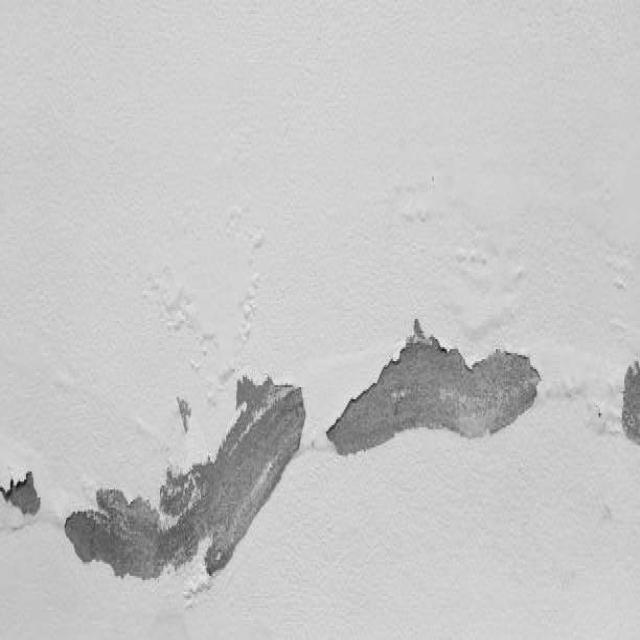peeling paint: (1, 301, 640, 612)
